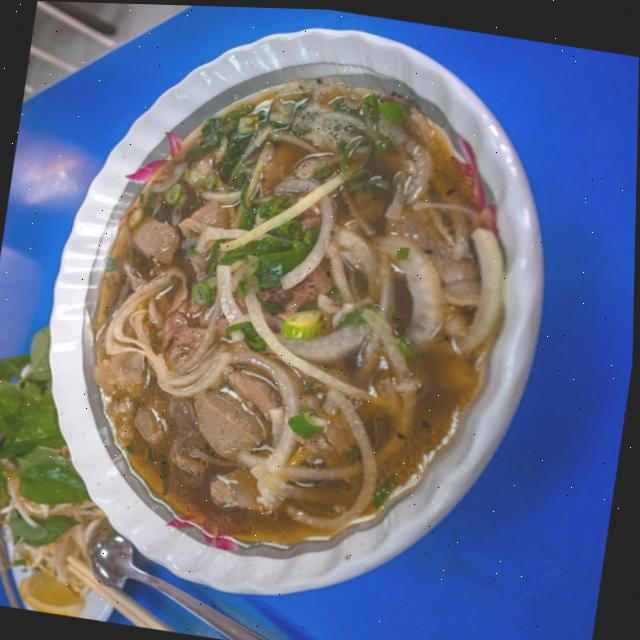面条主食: (0, 11, 555, 629)
